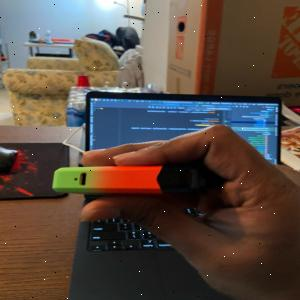Swift-E-Ciggirate: (40, 161, 230, 195)
